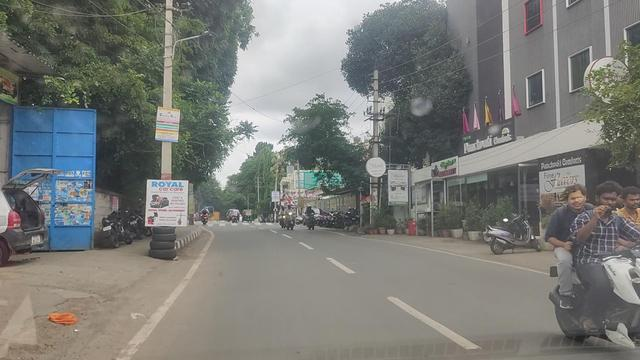RoadDamages: (35, 269, 114, 326)
